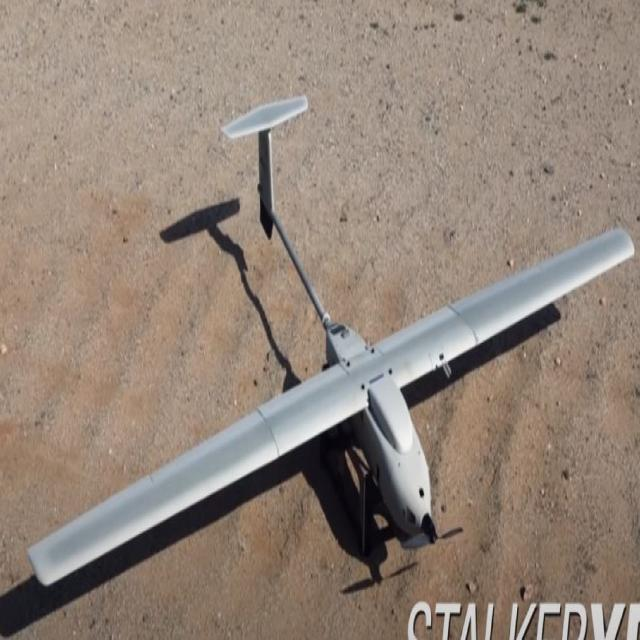iha: (16, 86, 629, 592)
